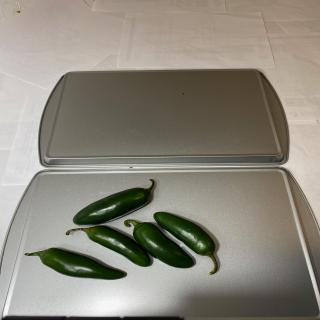Chilli: (153, 211, 218, 275)
Tomato: (72, 179, 156, 226), (65, 225, 151, 267), (24, 247, 127, 280), (124, 220, 194, 268)
